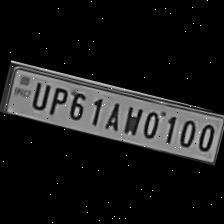0: (136, 105, 162, 140), (172, 113, 198, 148), (192, 118, 218, 152)
1: (156, 110, 180, 146), (82, 92, 106, 127)
6: (61, 86, 88, 122)
A: (98, 96, 125, 132)
P: (42, 80, 68, 118)
U: (26, 76, 51, 110)
W: (118, 101, 144, 137)
